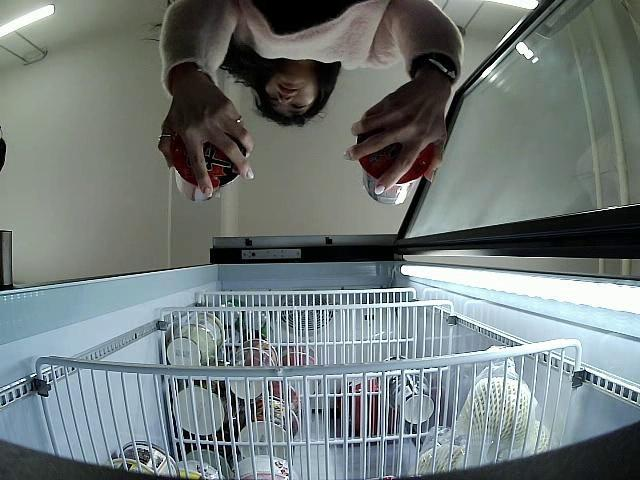02_shinRamen_S: (357, 127, 432, 206), (173, 134, 246, 203)
